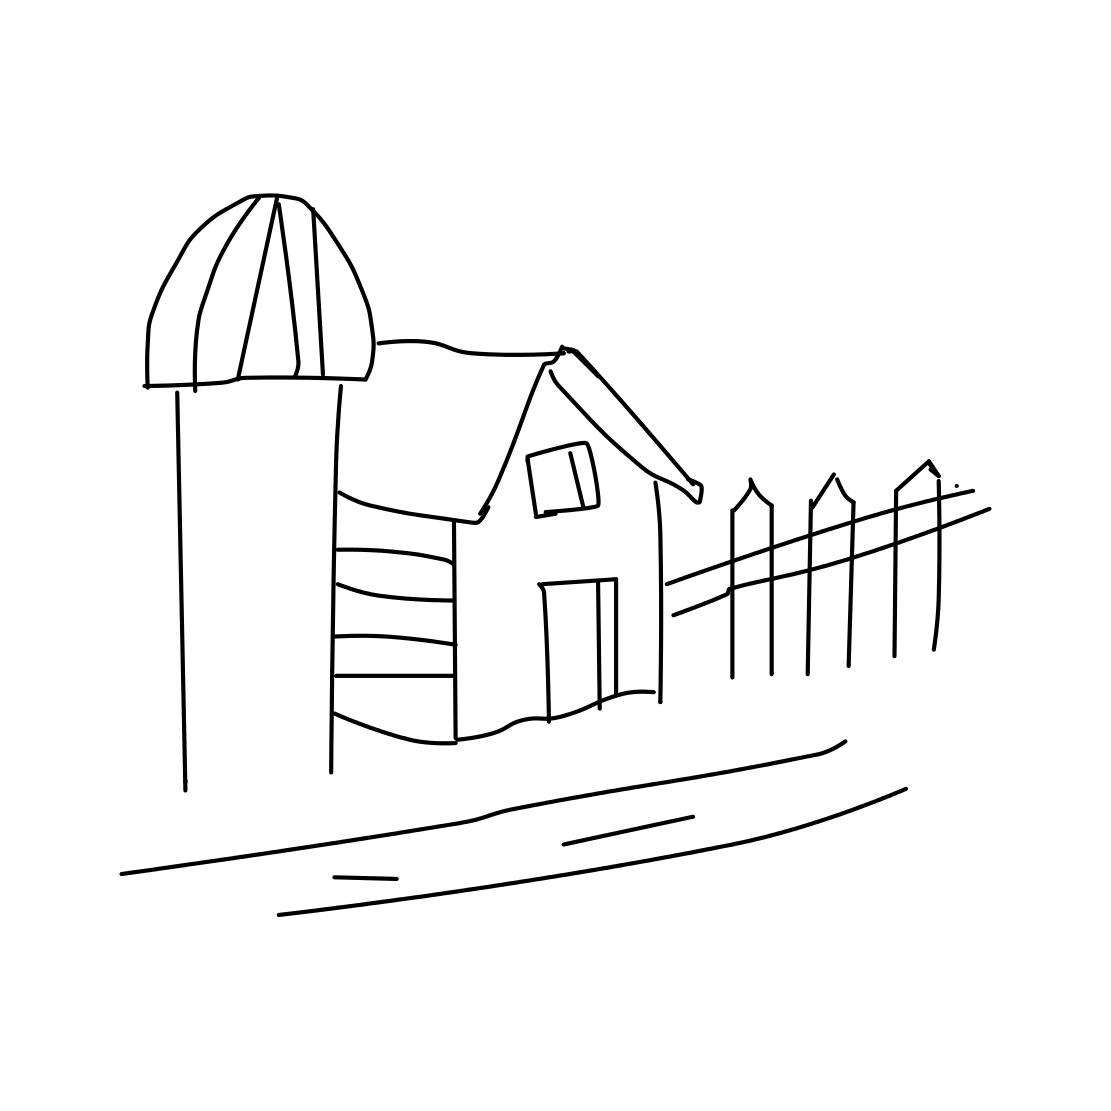House: (340, 306, 693, 760)
